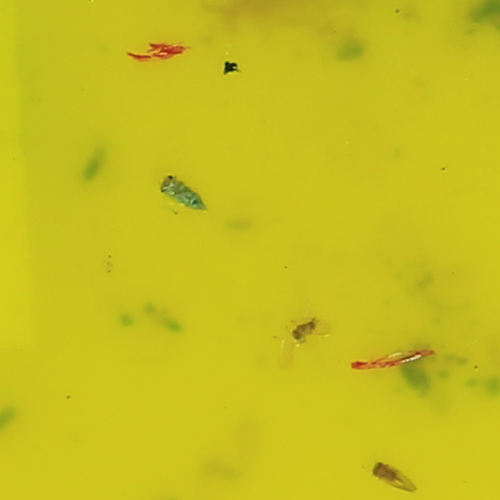Glycaspis: (158, 173, 208, 212)
Platyobria: (372, 462, 417, 494)
